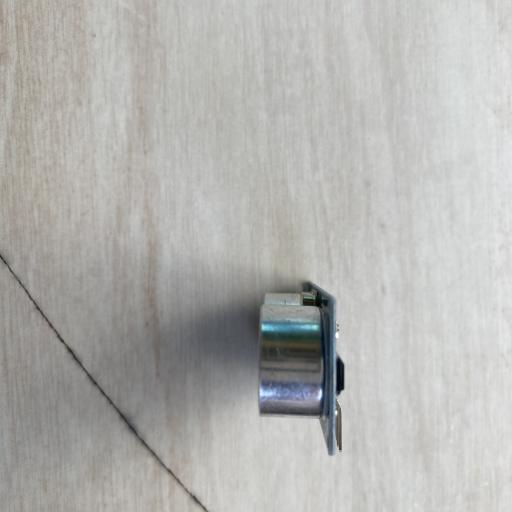Ultrasonic Sensor: (257, 281, 345, 456)
